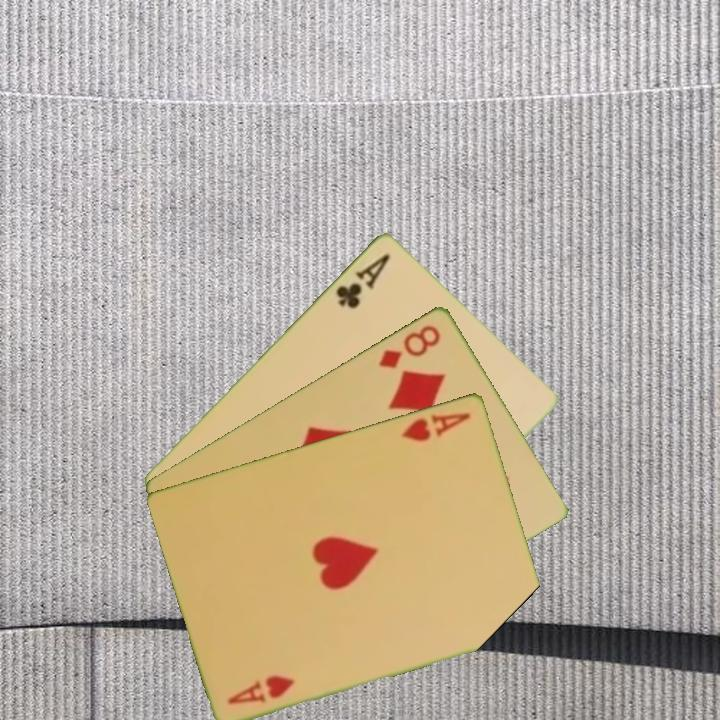8d: (375, 321, 444, 371)
Ac: (332, 249, 393, 311)
Ah: (398, 408, 473, 444), (224, 671, 298, 707)
